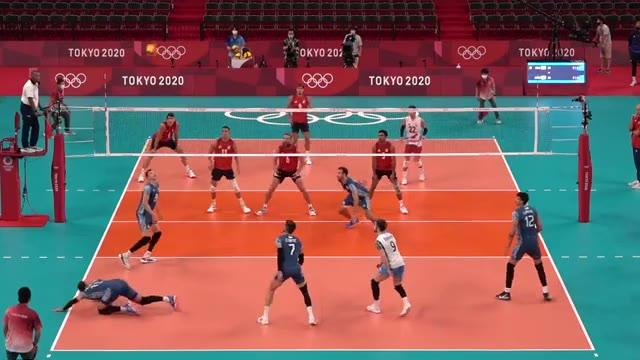ball: (143, 42, 157, 55)
